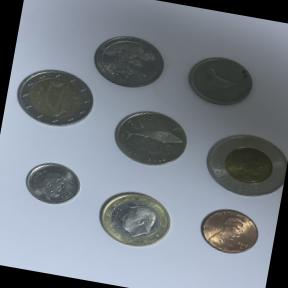coin: (193, 117, 288, 207), (87, 179, 183, 257), (104, 100, 197, 179), (10, 61, 100, 134), (87, 28, 174, 96), (189, 199, 268, 264), (18, 153, 90, 212)
